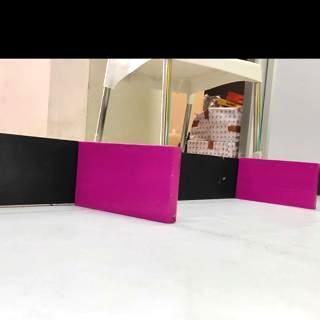xparking: (82, 148, 177, 218), (238, 163, 316, 204)
